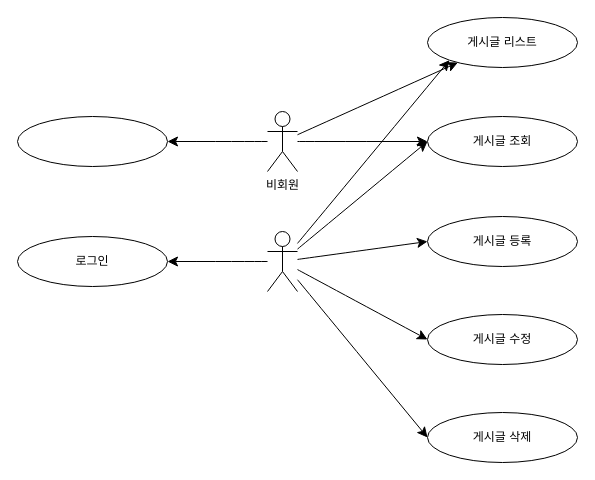
Some shapes in this 595 by 480 pixel diagram are drawn without their labels. Here are the shapes that lost their labels. From the top down, the centre of each, then its label:
At (92,141): "회원가입".
At (282,261): "회원".
